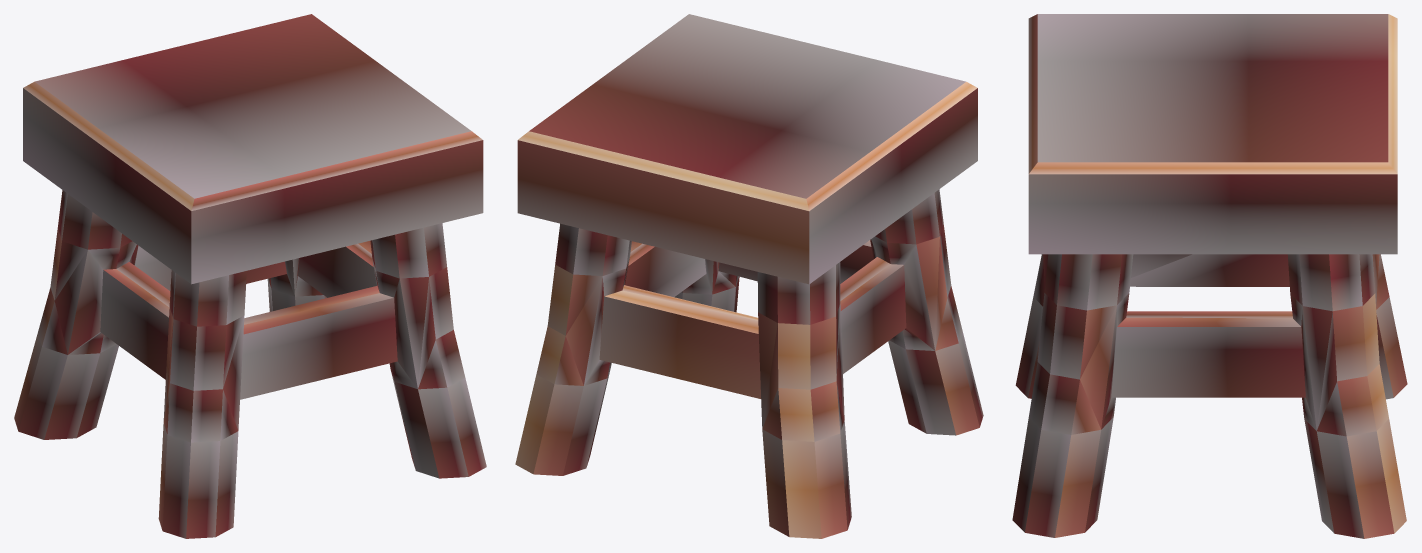
File: stool.fbx
3 renders of one model, left to right at view 1: azimuth 30°, elevation 25°; view 2: azimuth 150°, elevation 25°; view 3: azimuth 270°, elevation 25°, orthographic. The views are drawn at different scales.
Visible parts, largest first — view 1: stool; view 2: stool; view 3: stool.
Part boxes in pixels (x1,y1,x2,y2): stool: (14, 14, 486, 538); stool: (515, 14, 983, 538); stool: (1012, 14, 1407, 538).
Size of the model in its own units: 106 by 104 by 102.
